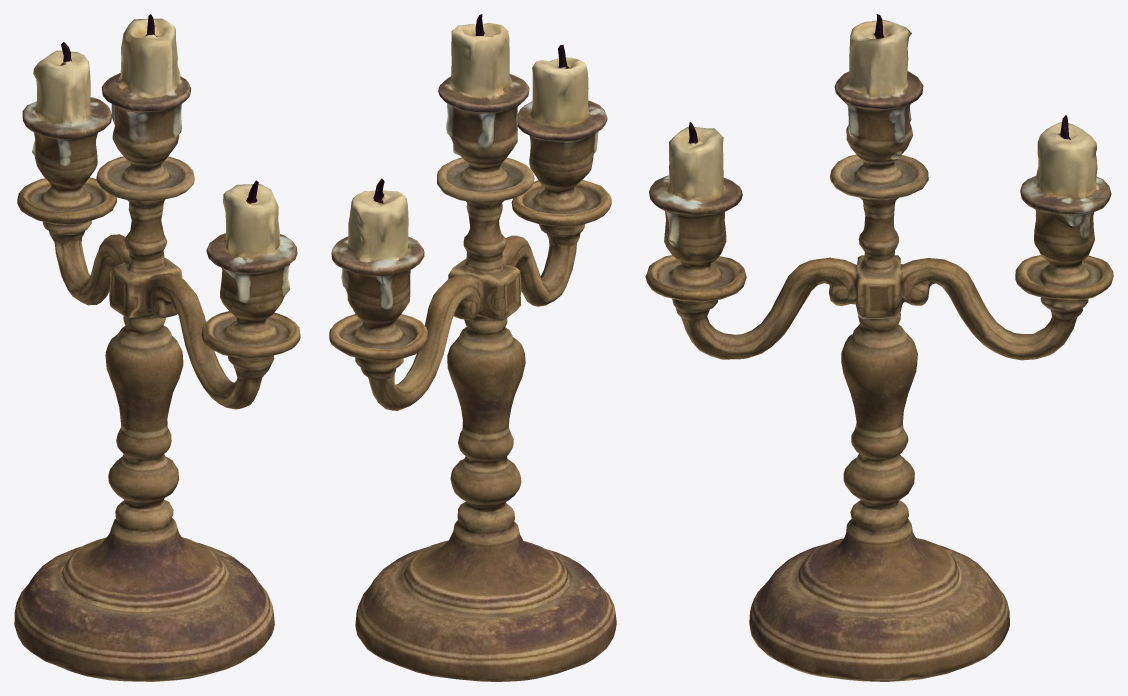
Rendered from candelabra.glb.
The picture shows the model from 3 angles, left to right: view 1: azimuth 30°, elevation 25°; view 2: azimuth 150°, elevation 25°; view 3: azimuth 270°, elevation 25°; orthographic projection.
Visible parts, largest first — view 1: Mesh_0; view 2: Mesh_0; view 3: Mesh_0.
Part boxes in pixels (box(x1,y1,x2,y2)): Mesh_0: box(14, 14, 300, 681); Mesh_0: box(329, 14, 616, 681); Mesh_0: box(645, 14, 1113, 681).
Size of the model in its own units: 0.1569 by 0.4086 by 0.28.
Materials: 1 (1 with a texture image).
